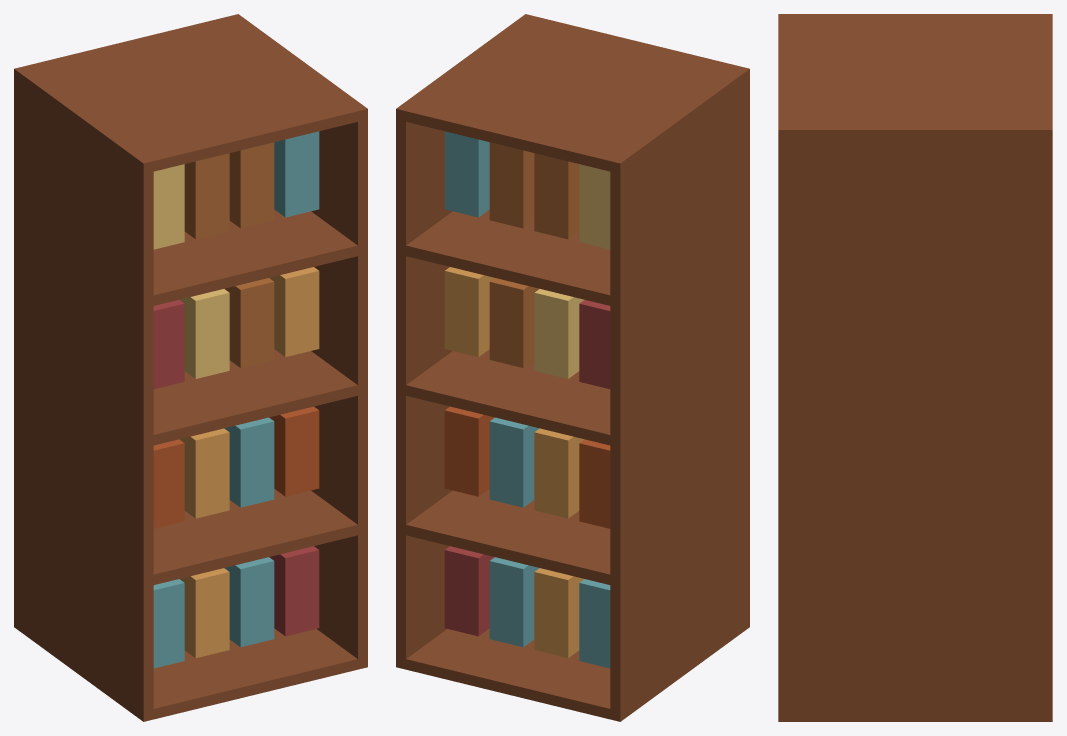
The model's file is proving_cabinet.glb.
3 renders of one model, left to right at view 1: azimuth 30°, elevation 25°; view 2: azimuth 150°, elevation 25°; view 3: azimuth 270°, elevation 25°, orthographic. The views are drawn at different scales.
Bounding box in the file's own units: 0.798 × 1.9 × 0.798.
1 material, 1 textured.
